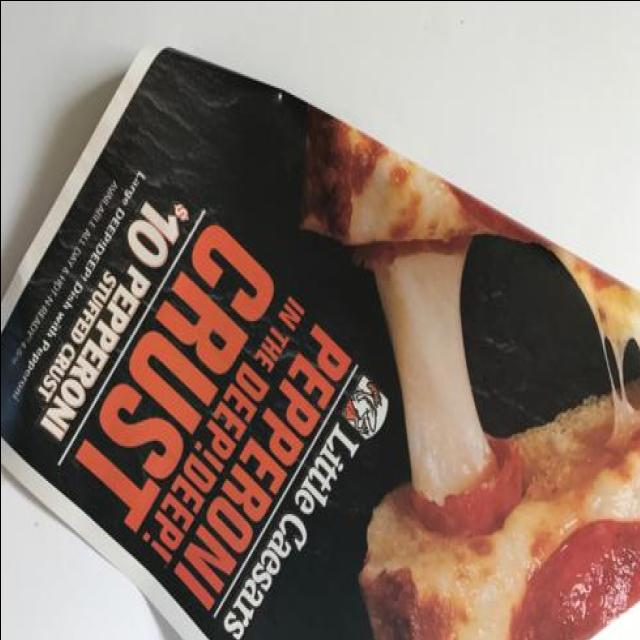kertas: (0, 40, 640, 640)
